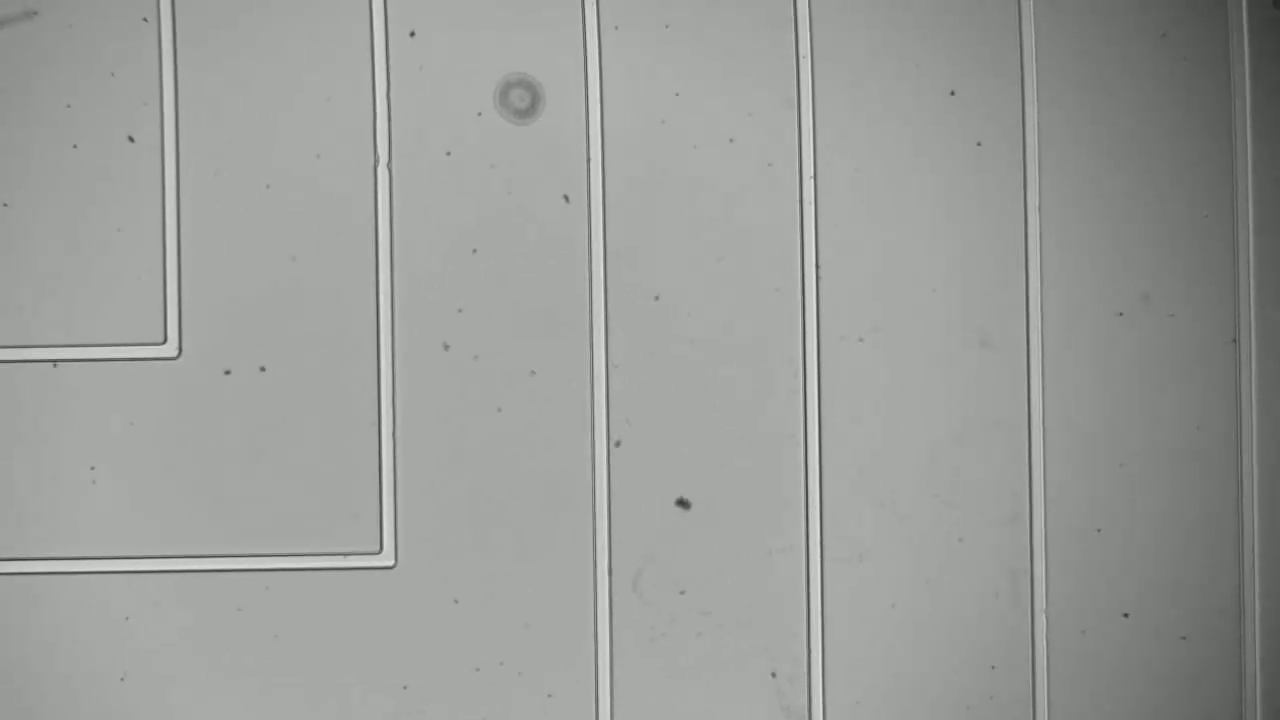edge_bite: (368, 145, 401, 174)
